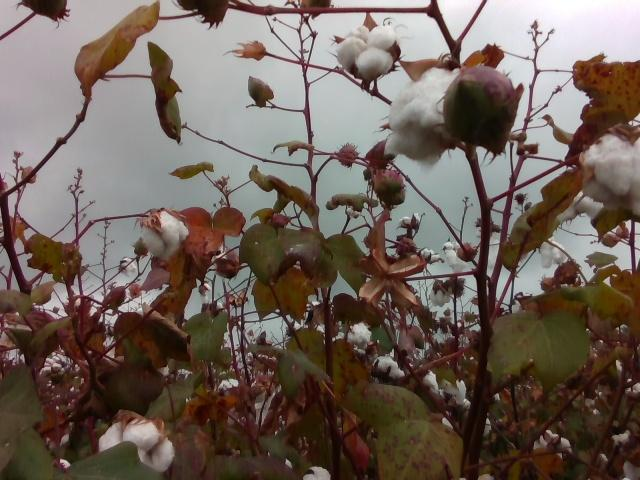cotton_ready: (386, 70, 456, 167), (580, 136, 640, 219), (98, 417, 175, 476), (335, 27, 397, 78), (145, 212, 190, 260), (296, 465, 332, 480)
